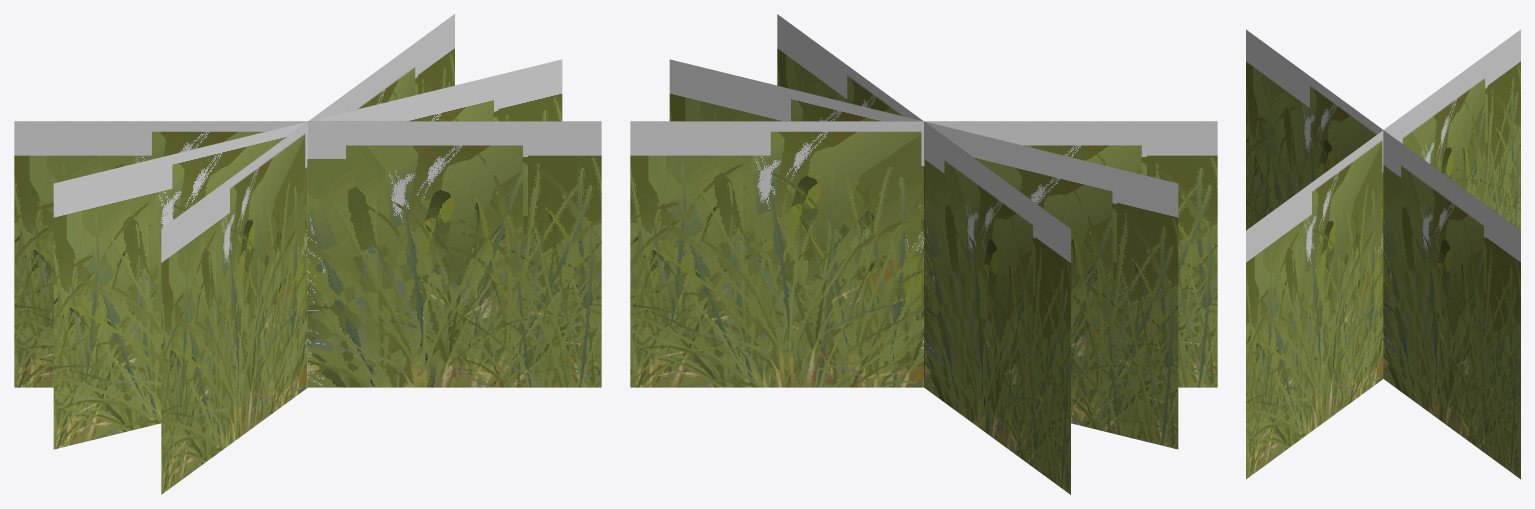
The model's file is high_grass.fbx.
3 renders of one model, left to right at view 1: azimuth 30°, elevation 25°; view 2: azimuth 150°, elevation 25°; view 3: azimuth 270°, elevation 25°, orthographic. The views are drawn at different scales.
Visible parts, largest first — view 1: Model; view 2: Model; view 3: Model.
Part boxes in pixels (x1,y1,x2,y2): Model: [14, 14, 601, 494]; Model: [630, 14, 1217, 494]; Model: [1246, 29, 1520, 479].
Size of the model in its own units: 360 by 180 by 180.
